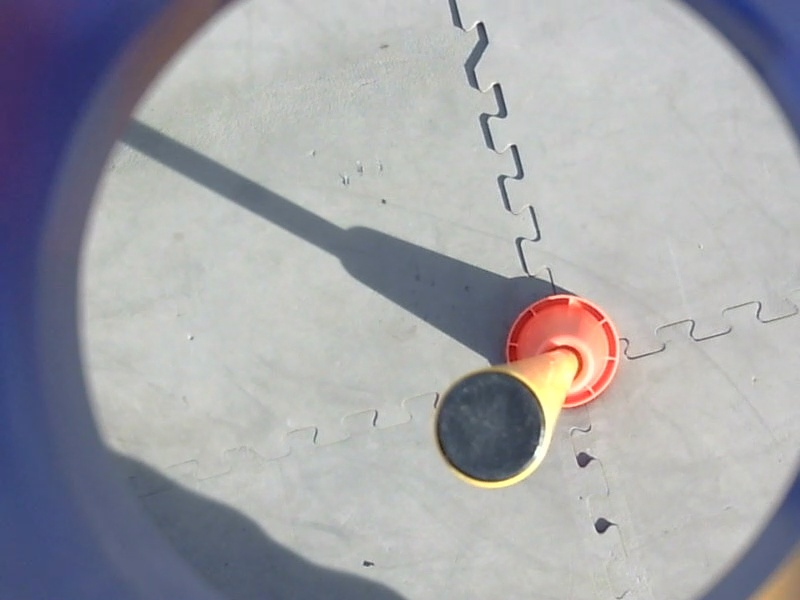tip: (427, 362, 558, 495)
